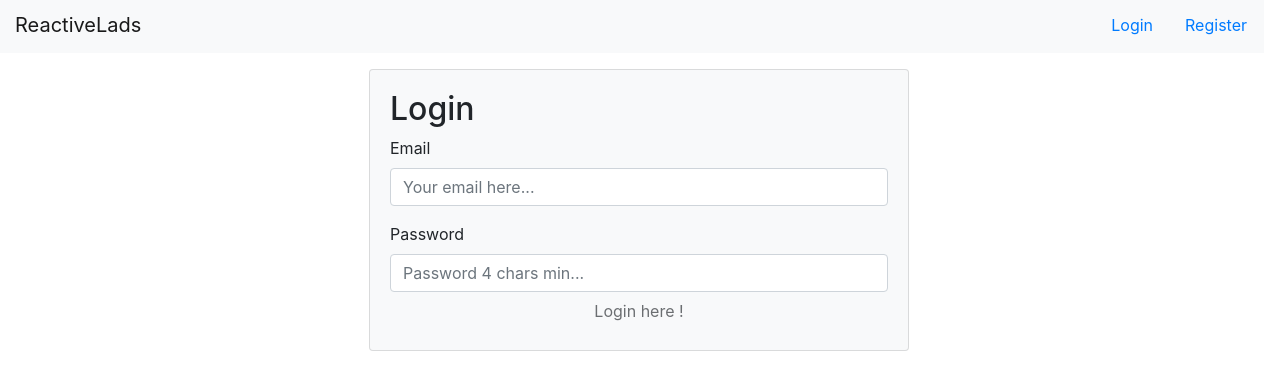
Test: <LoginForm/> e2e › Fields validation › Email field validation › should validate email field
The width and height of the screenshot is (1264, 392).
Type "invalid@invalid" into the field named "email" at (639, 187), box [390,168,888,206]
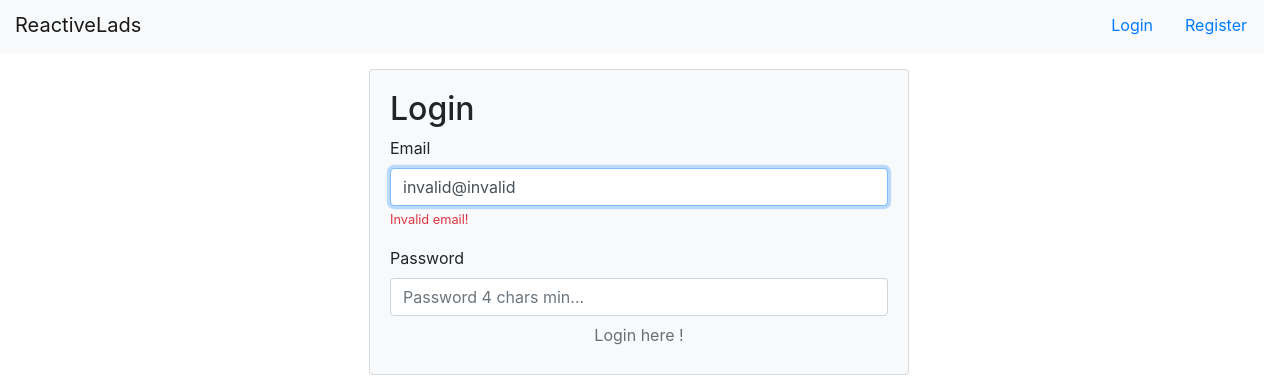
Now the text "Invalid email!" is shown, box [390,212,468,227]
